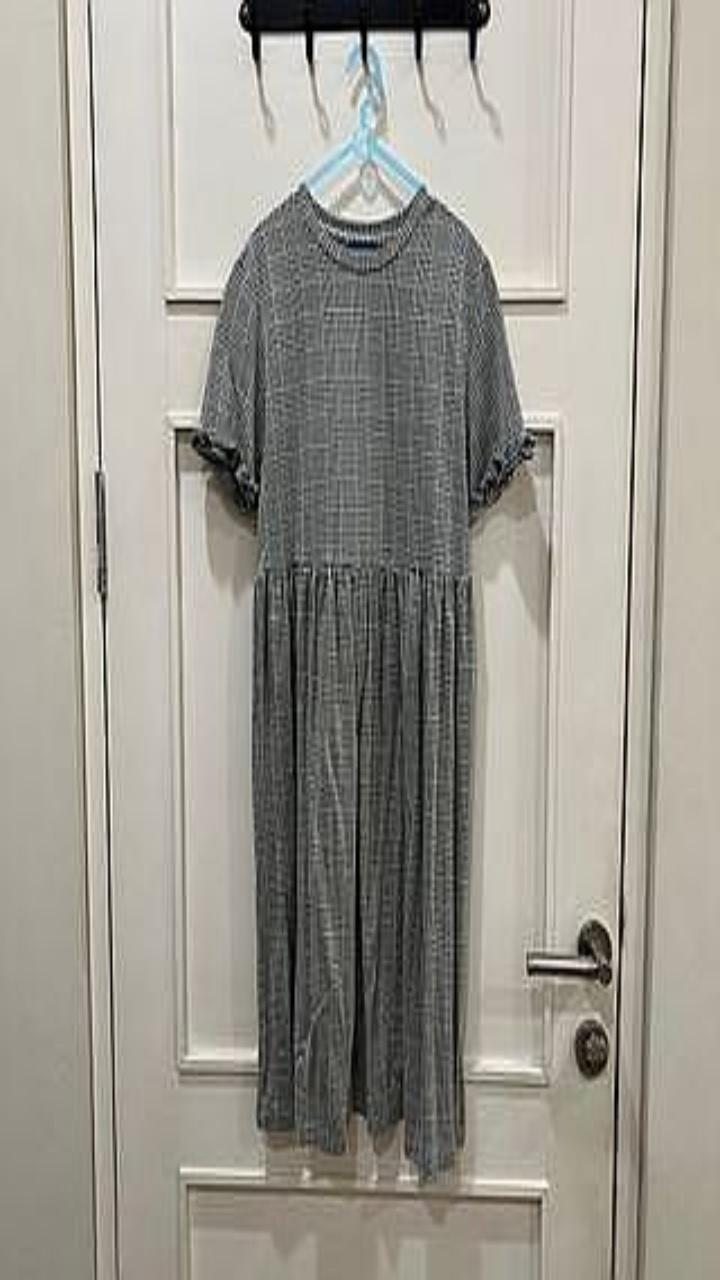Dresses: (192, 183, 534, 1180)
